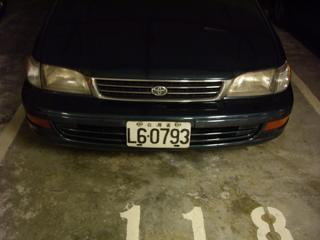plate: (124, 119, 192, 151)
